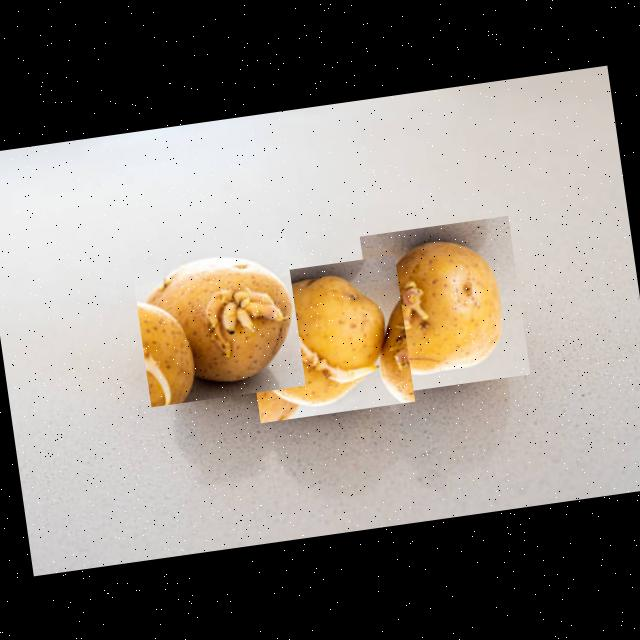Sprouted potato: (358, 215, 530, 394), (130, 236, 304, 406), (239, 255, 414, 422)
